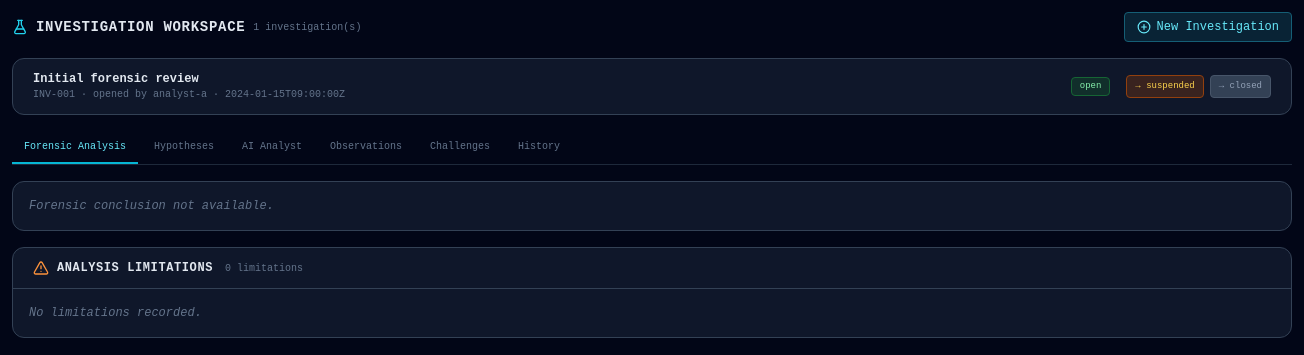
InvestigationWorkspace › switches to challenges tab on click
Click the button with test id "tab-challenges" at [460, 148], box left=418, top=131, right=502, bottom=164
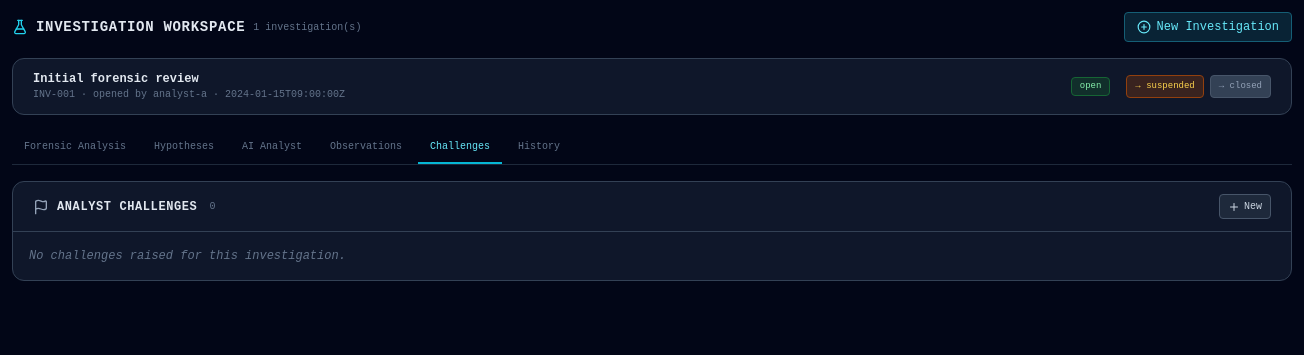
Check: the element with test id "tab-content-challenges" is shown, box left=12, top=181, right=1292, bottom=281
